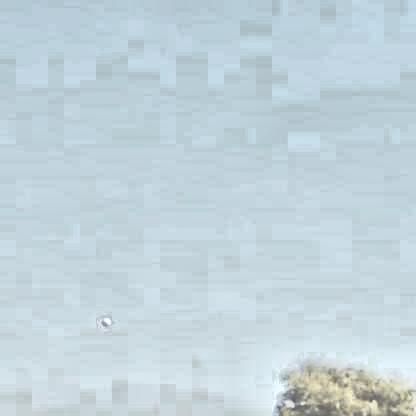golfball: (98, 315, 108, 326)
